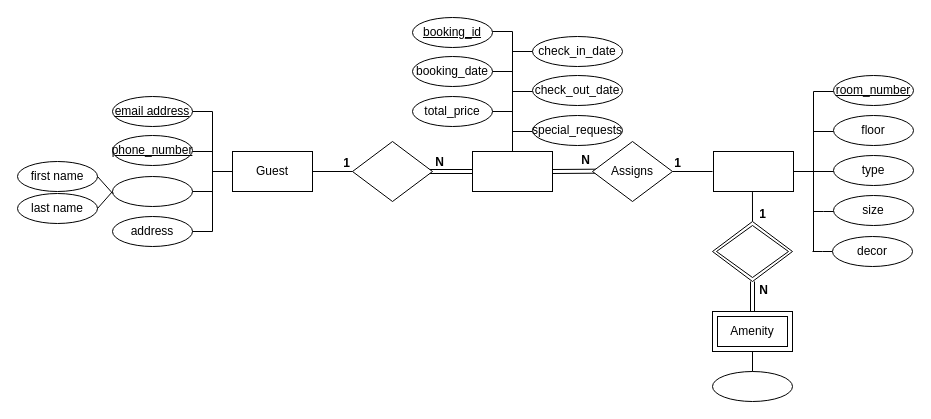
Some shapes in this 931 by 419 pixel diagram are drawn without their labels. Each missing label, with the box of its shape:
amenity_id: (712, 370, 792, 402)
Booking: (472, 150, 552, 192)
Has: (712, 220, 792, 282)
Makes: (352, 140, 432, 202)
name: (112, 176, 192, 206)
Room: (712, 150, 794, 192)
